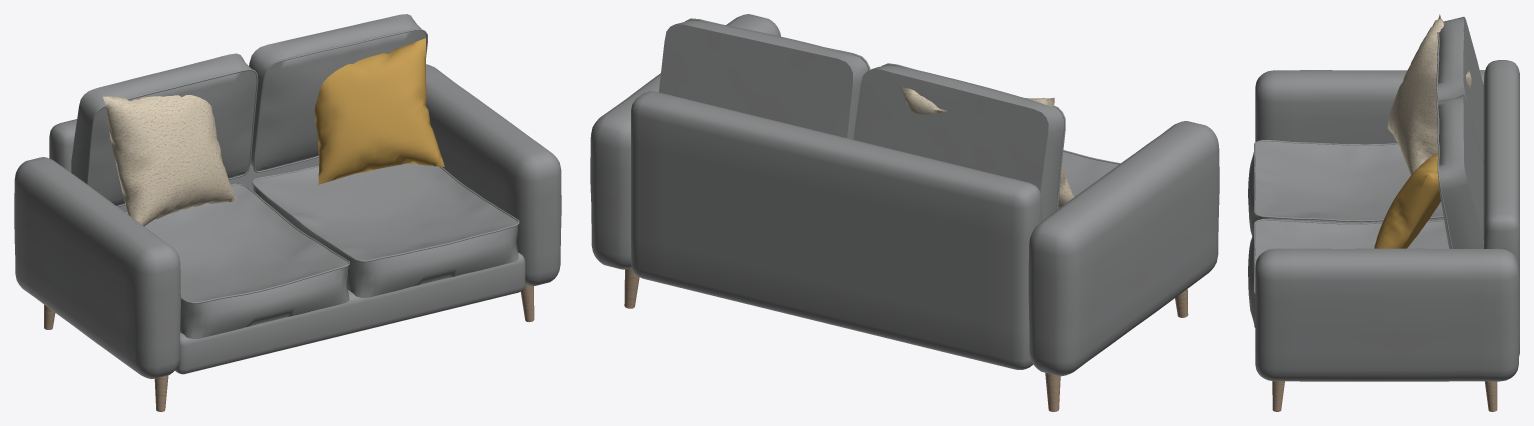
File: sofa_2p_grey.glb
3 views of the same model, side by side, from view 1: azimuth 30°, elevation 25°; view 2: azimuth 150°, elevation 25°; view 3: azimuth 270°, elevation 25° (orthographic). The views are drawn at different scales.
Parts seen in each view (by area): view 1: sofa_soft, sofa_hard; view 2: sofa_soft, sofa_hard; view 3: sofa_soft, sofa_hard.
Part boxes in pixels (<box>): sofa_soft: <box>14,14,561,378</box>; sofa_hard: <box>44,284,534,411</box>; sofa_soft: <box>590,14,1219,376</box>; sofa_hard: <box>624,267,1188,411</box>; sofa_soft: <box>1248,14,1519,381</box>; sofa_hard: <box>1272,381,1497,411</box>.
Size of the model in its own units: 1.61 by 0.8893 by 0.9262.
Materials: 4 (2 with a texture image).
